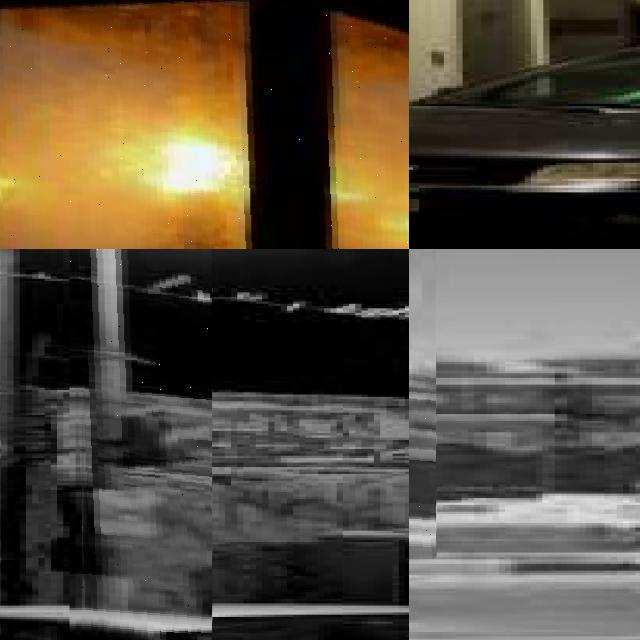street light: (0, 0, 409, 249), (69, 249, 212, 640)
